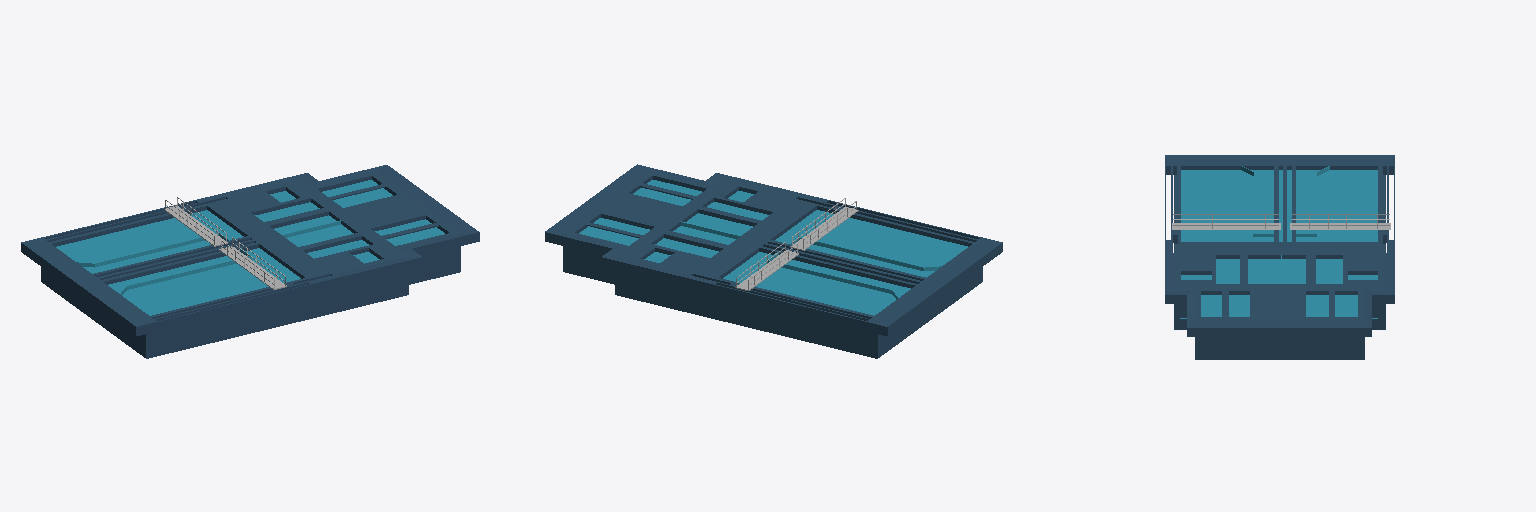
File: efficientive_sedimentation_tank.obj
The picture shows the model from 3 angles: view 1: azimuth 30°, elevation 25°; view 2: azimuth 150°, elevation 25°; view 3: azimuth 270°, elevation 25°; orthographic projection.
Visible parts, largest first — view 1: ___, ___.2, ___.1, ___.5, ___.4; view 2: ___, ___.2, ___.5, ___.1, ___.4; view 3: ___, ___.1, ___.2.
Part boxes in pixels (x1,y1,x2,y2): ___: (21,165,479,358); ___.2: (44,201,286,289); ___.1: (47,206,274,288); ___.5: (119,248,308,320); ___.4: (77,233,272,318); ___: (545,164,1002,358); ___.2: (715,207,868,320); ___.5: (789,201,979,270); ___.1: (735,202,871,318); ___.4: (768,212,976,299); ___: (1165,155,1394,359); ___.1: (1290,166,1390,229); ___.2: (1172,166,1393,229).
Bounding box in the file's own units: 9962 × 1328 × 5620.